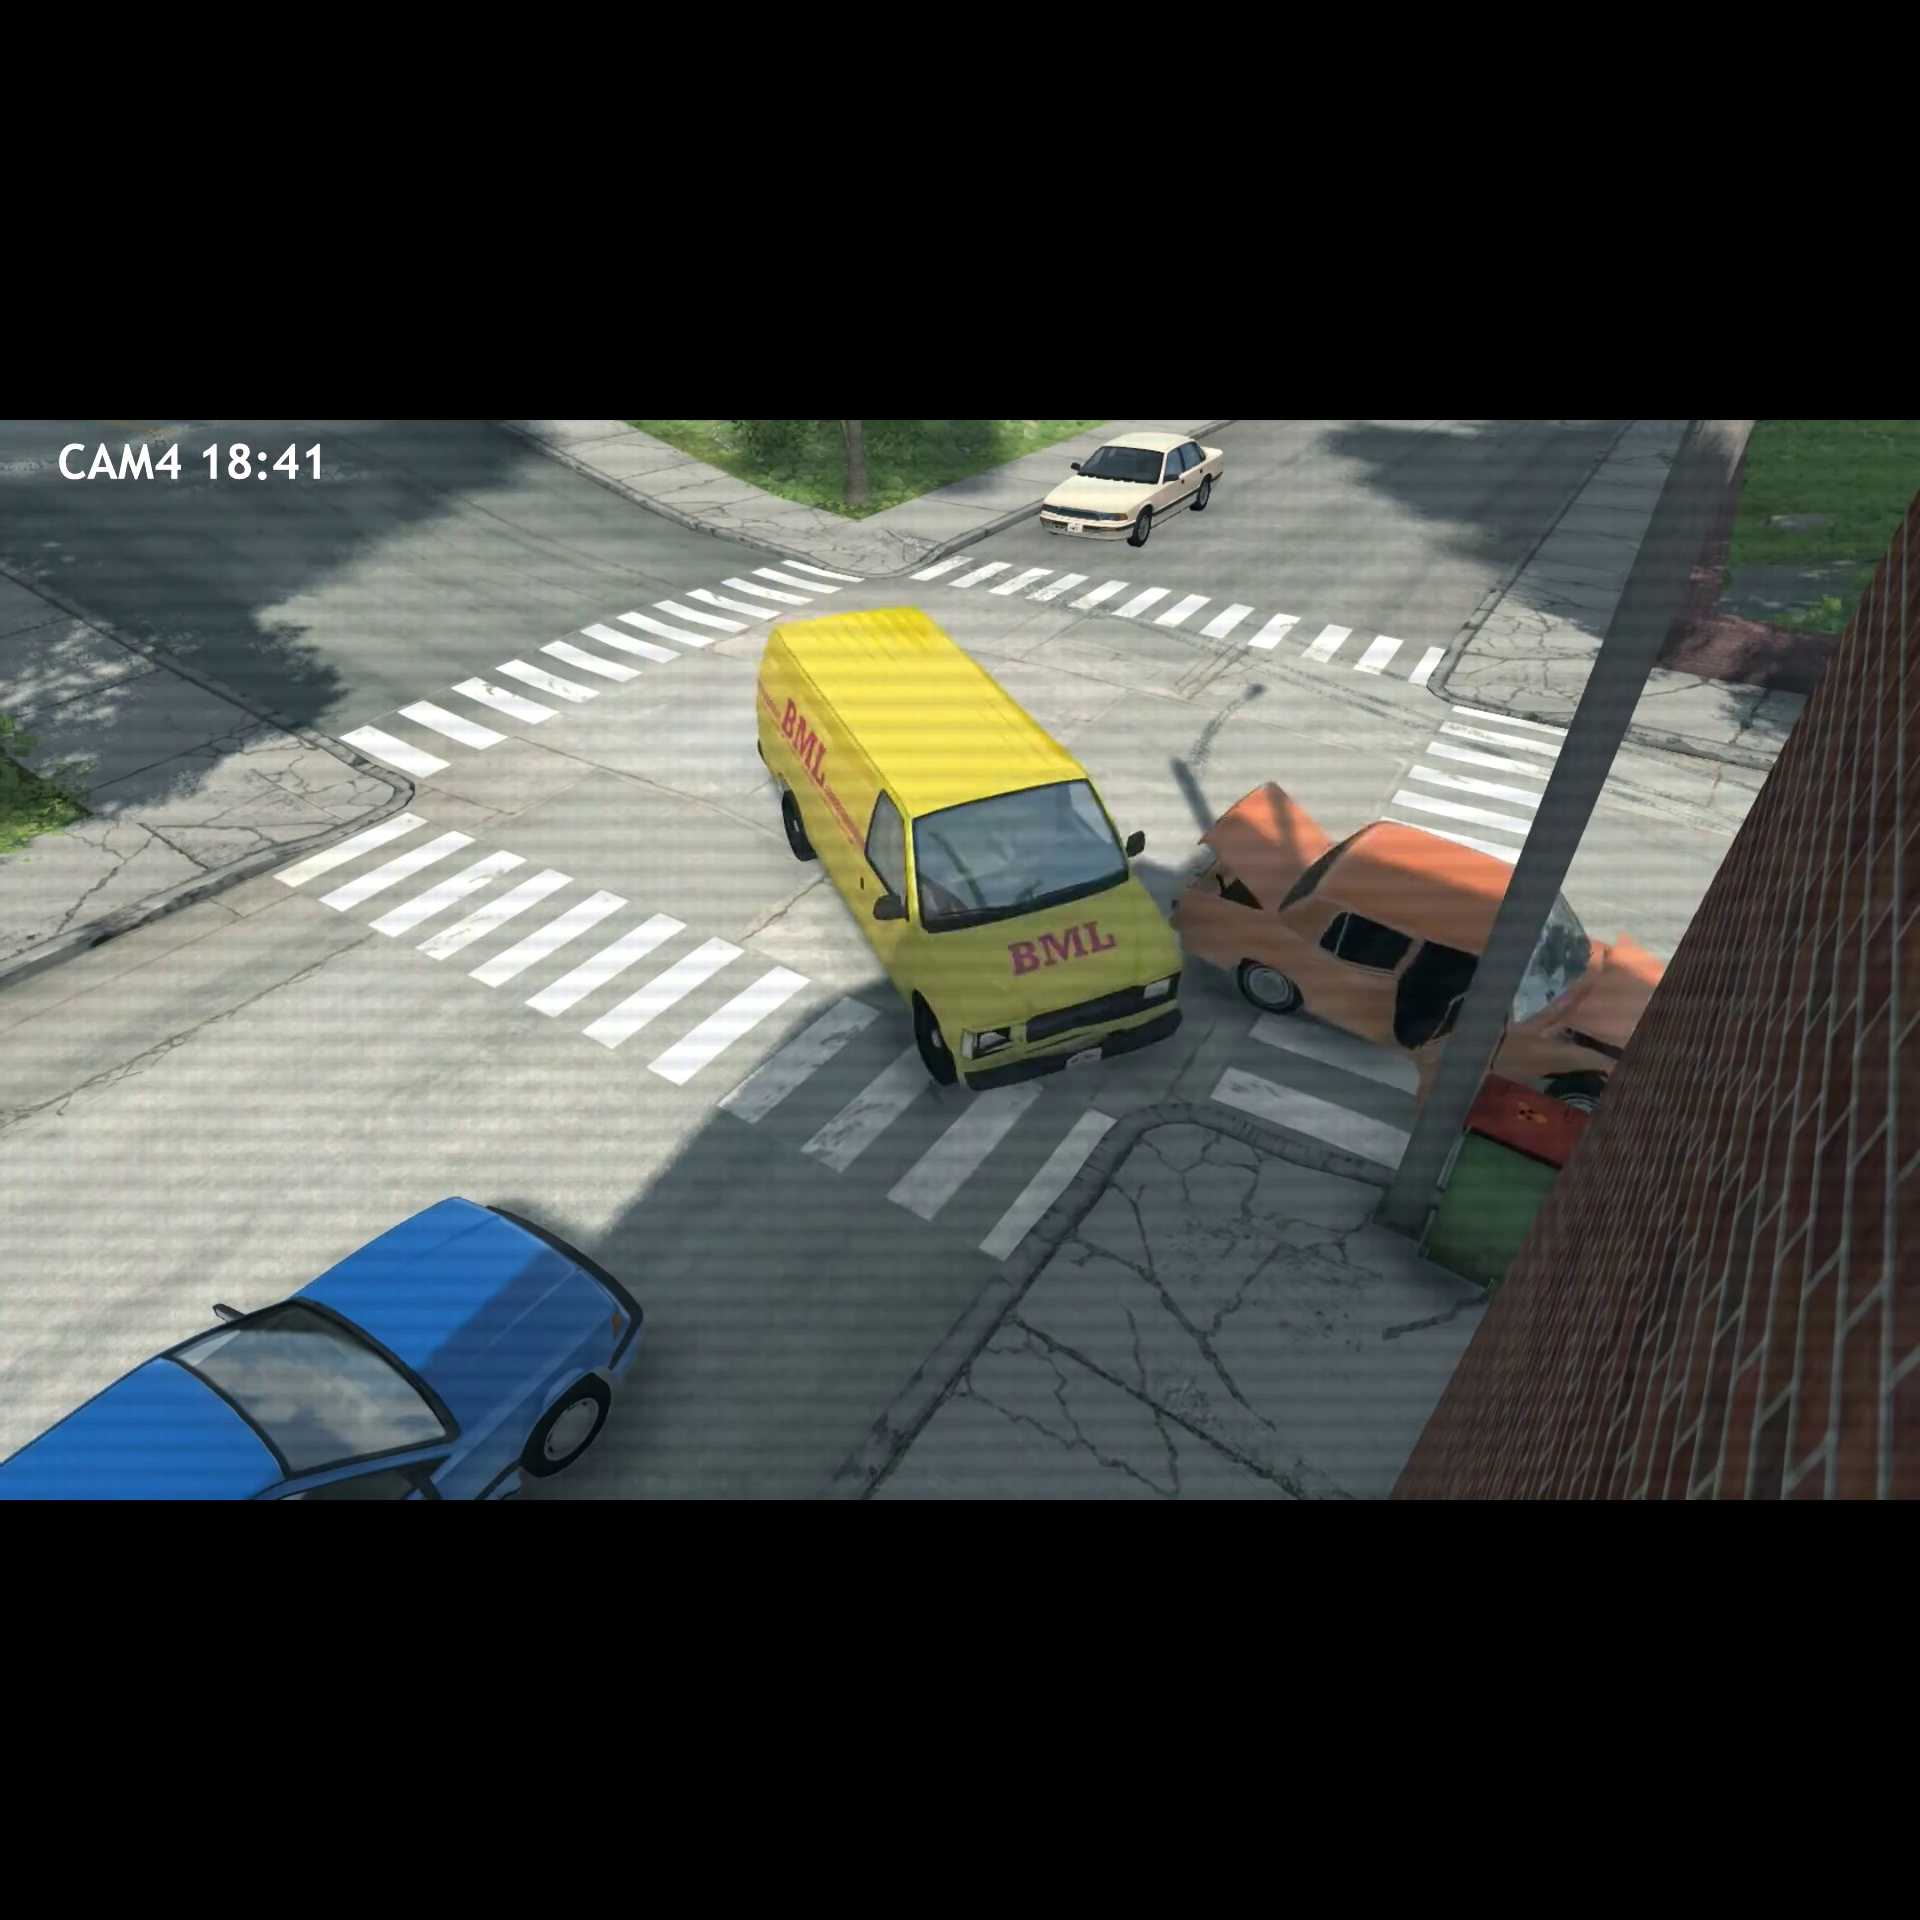vehicle: (733, 593, 1183, 1099), (2, 1180, 684, 1502), (1180, 774, 1623, 1108), (1034, 431, 1231, 547)
